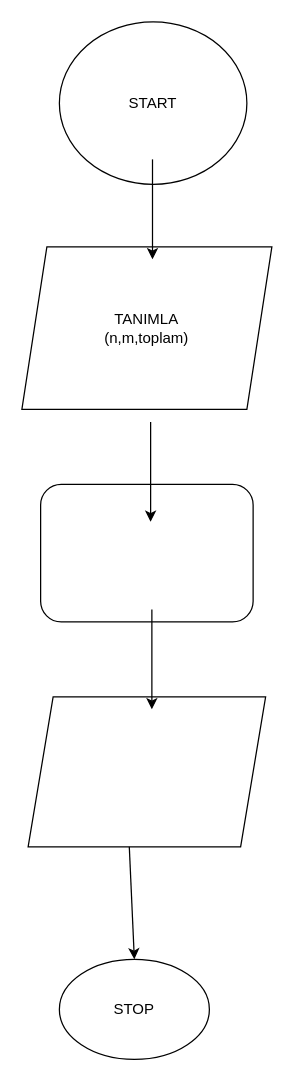
Image size: 294x1081. Some labels were removed from this diagram. The box of each missing label's shape, as (x1, y1, x2, y2) in pixels:
EKRANA YAZDIR (TOPLAM): (27, 696, 266, 847)
TOPLAM=N+M: (39, 483, 253, 622)
